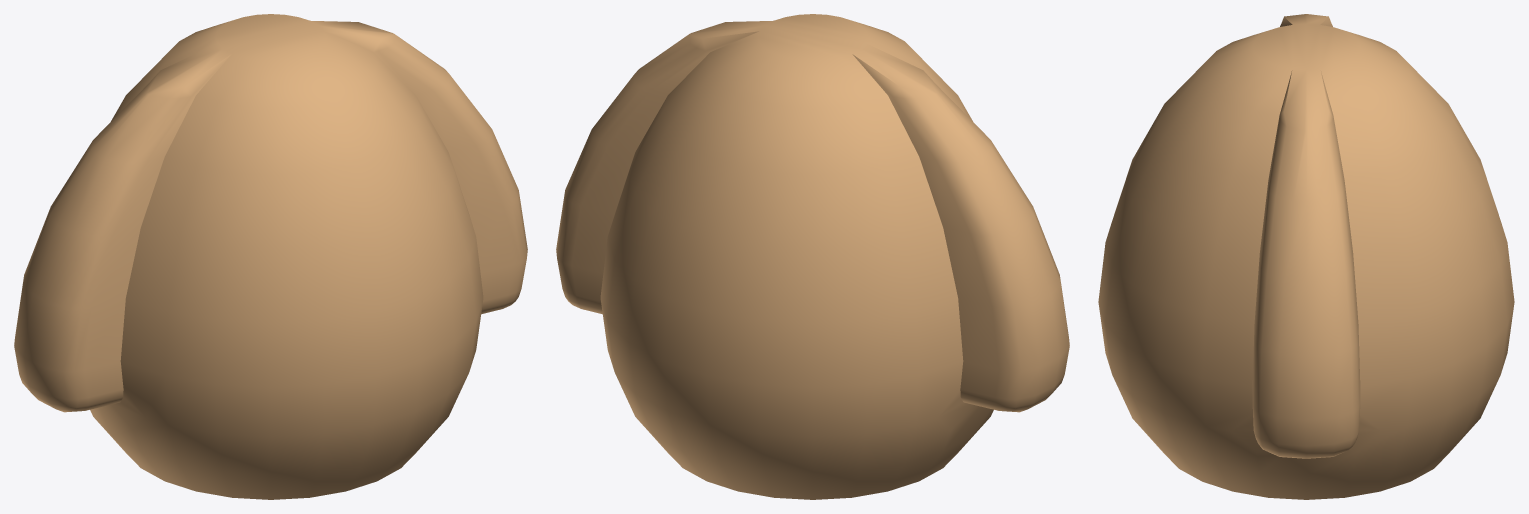
Rendered from character_dog-col.glb.
The picture shows the model from 3 angles, left to right: view 1: azimuth 30°, elevation 25°; view 2: azimuth 150°, elevation 25°; view 3: azimuth 270°, elevation 25°; orthographic projection. The views are drawn at different scales.
Parts seen in each view (by area): view 1: character_dog-col; view 2: character_dog-col; view 3: character_dog-col.
Part boxes in pixels (x1,y1,x2,y2): character_dog-col: (14, 14, 527, 499); character_dog-col: (556, 14, 1069, 499); character_dog-col: (1098, 14, 1514, 499).
Size of the model in its own units: 0.9379 by 0.7256 by 0.7.
